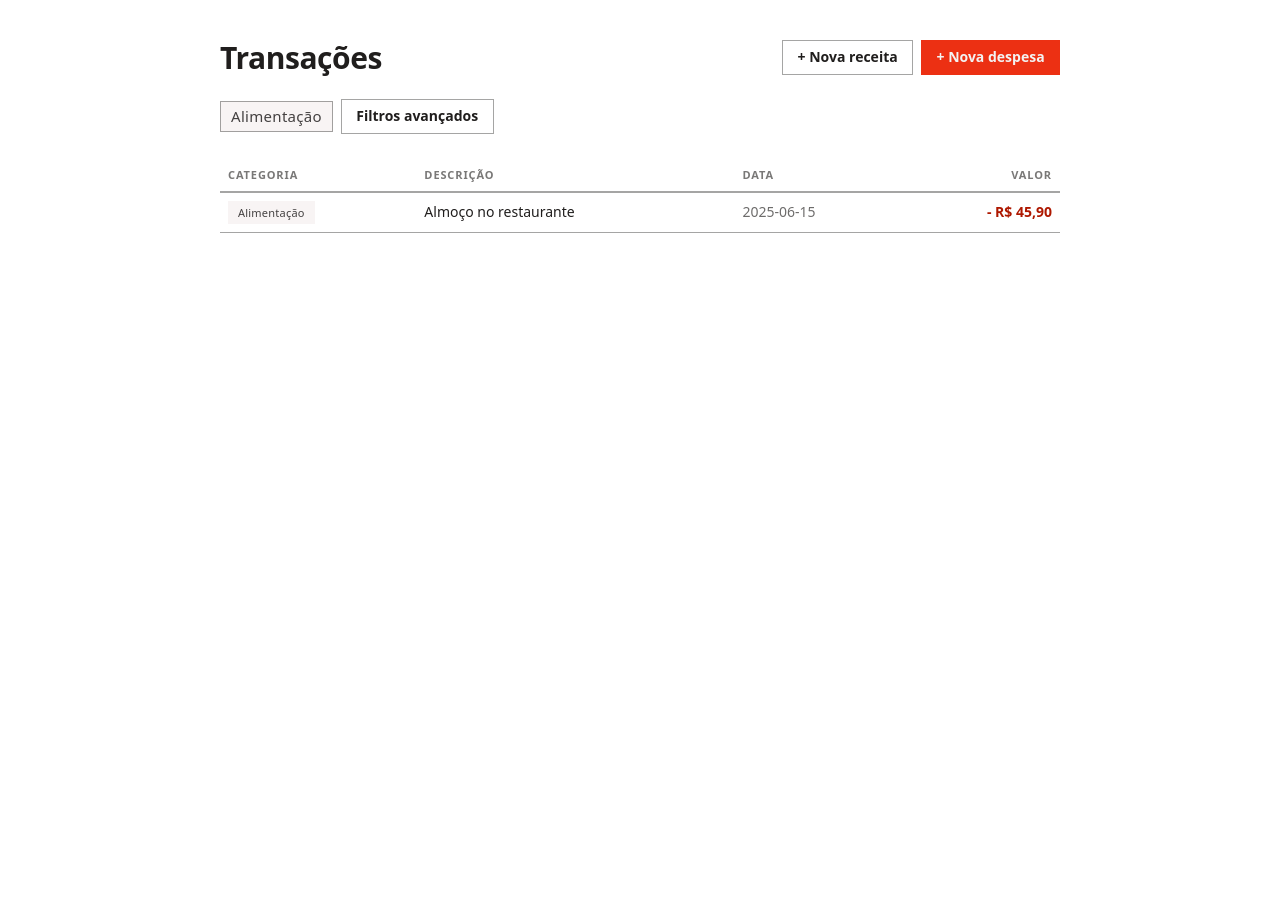
TransactionsListPage › clicar numa linha abre o popup de detalhe (FEAT-20)
This screenshot has width=1280, height=900.
Click the text "Almoço no restaurante" at (575, 212), box [416,192,734,232]
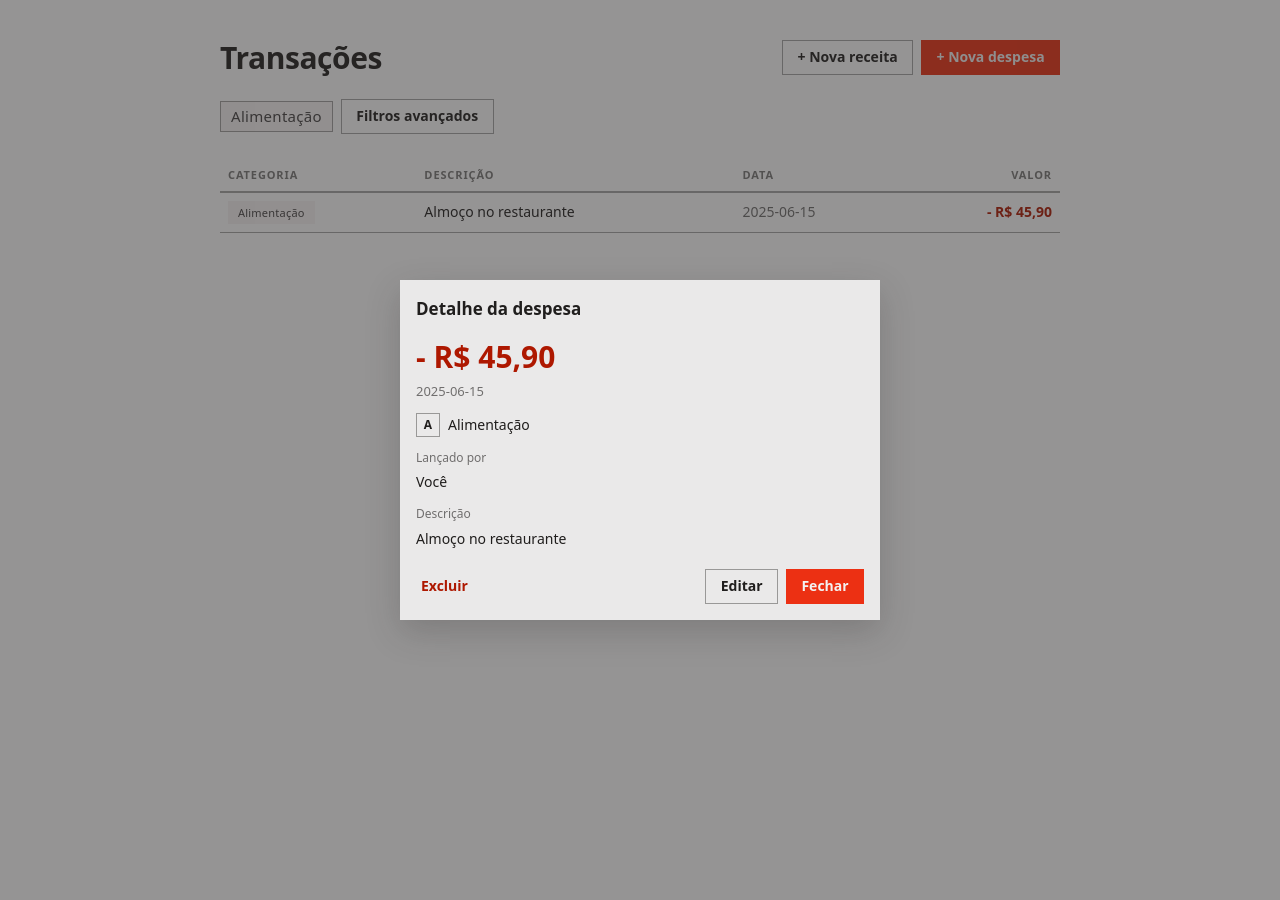
Now the text "Detalhe da despesa" is shown, box [416,297,581,320]
